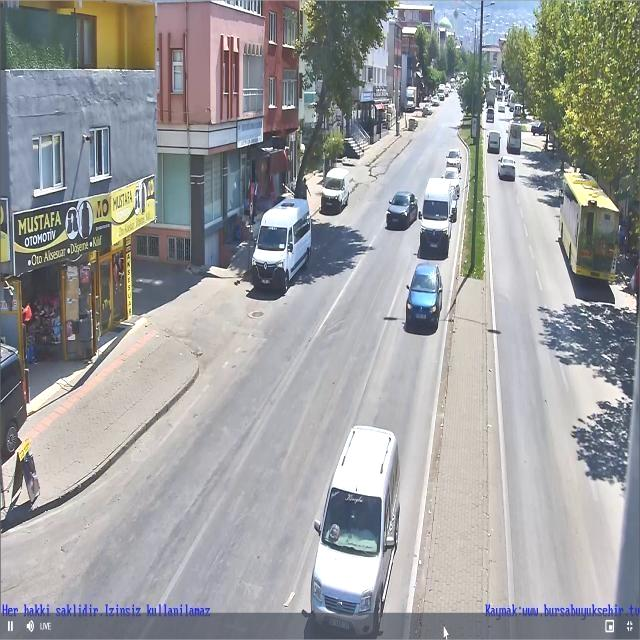Bus: (554, 168, 626, 291)
Car: (292, 423, 406, 628), (0, 330, 37, 455), (398, 259, 443, 339), (382, 181, 417, 232), (432, 142, 469, 180), (496, 150, 519, 180), (449, 185, 461, 216), (484, 104, 497, 124)
Van: (238, 194, 310, 296), (415, 186, 456, 252), (314, 162, 352, 218), (505, 118, 527, 156), (484, 128, 504, 154)
